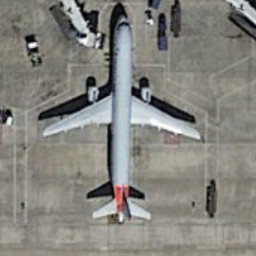Airplane: (30, 10, 207, 228)
